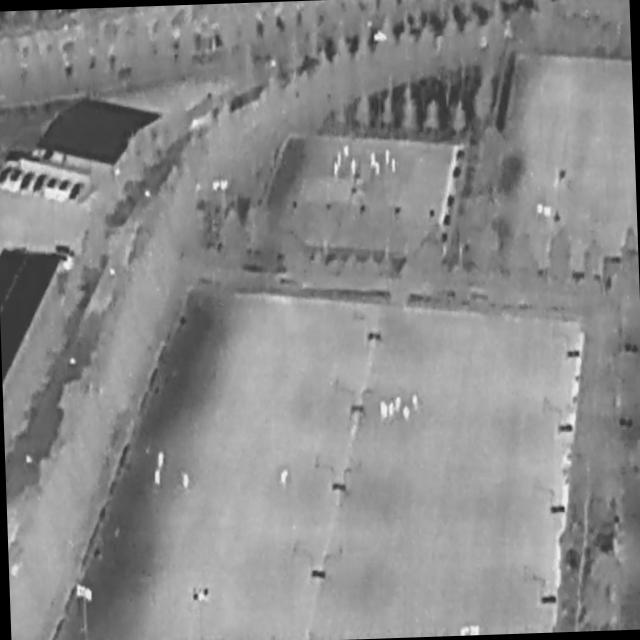person: (181, 472, 191, 491), (380, 402, 389, 422), (279, 470, 289, 488), (158, 452, 166, 471), (154, 468, 162, 486), (350, 159, 358, 175), (413, 394, 420, 412), (395, 397, 403, 412), (385, 150, 392, 166), (389, 401, 396, 417), (370, 153, 377, 168), (374, 162, 381, 177), (337, 153, 343, 168), (391, 159, 397, 174), (405, 407, 411, 421), (334, 163, 339, 177), (344, 145, 349, 156)
